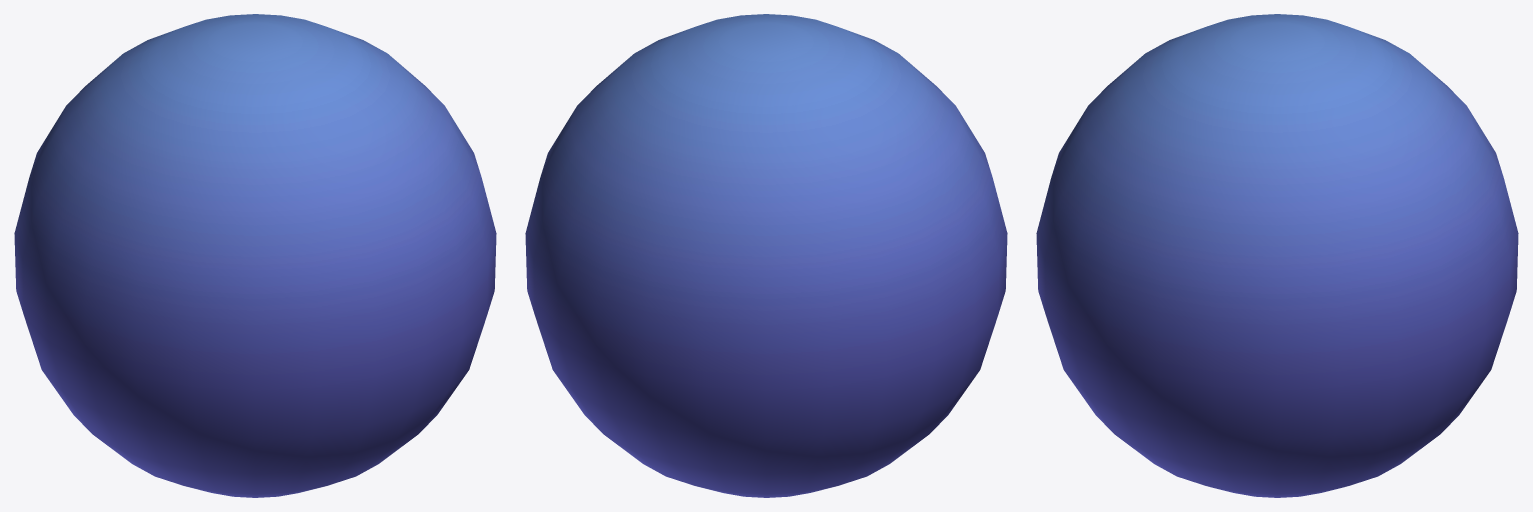
Rendered from ball-blue.glb.
The picture shows the model from 3 angles, left to right: view 1: azimuth 30°, elevation 25°; view 2: azimuth 150°, elevation 25°; view 3: azimuth 270°, elevation 25°; orthographic projection.
Visible parts, largest first — view 1: ball-blue; view 2: ball-blue; view 3: ball-blue.
Part boxes in pixels (x1=…): ball-blue: x1=14, y1=14, x2=496, y2=497; ball-blue: x1=525, y1=14, x2=1007, y2=497; ball-blue: x1=1036, y1=14, x2=1518, y2=497.
Bounding box in the file's own units: 0.0699 × 0.0697 × 0.0699.
1 material, 1 textured.
